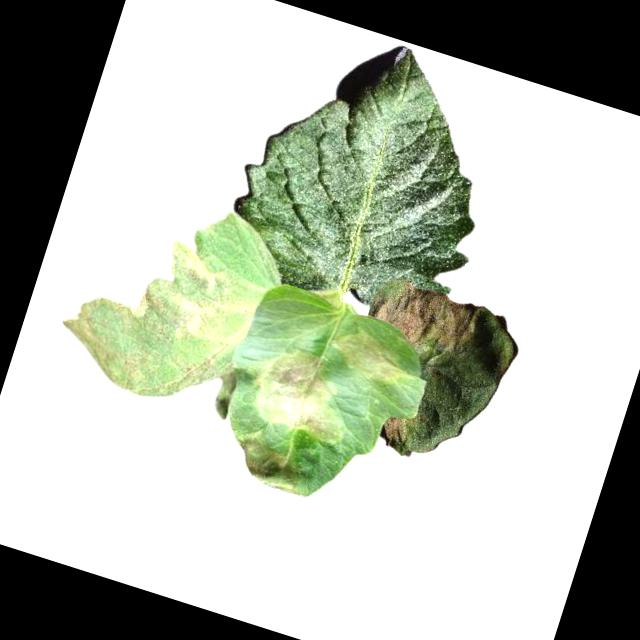Late_blight: (44, 214, 274, 424), (244, 338, 363, 449), (360, 274, 482, 364), (322, 323, 413, 390), (228, 432, 317, 499), (377, 411, 410, 451)
healthy: (215, 10, 526, 335)
